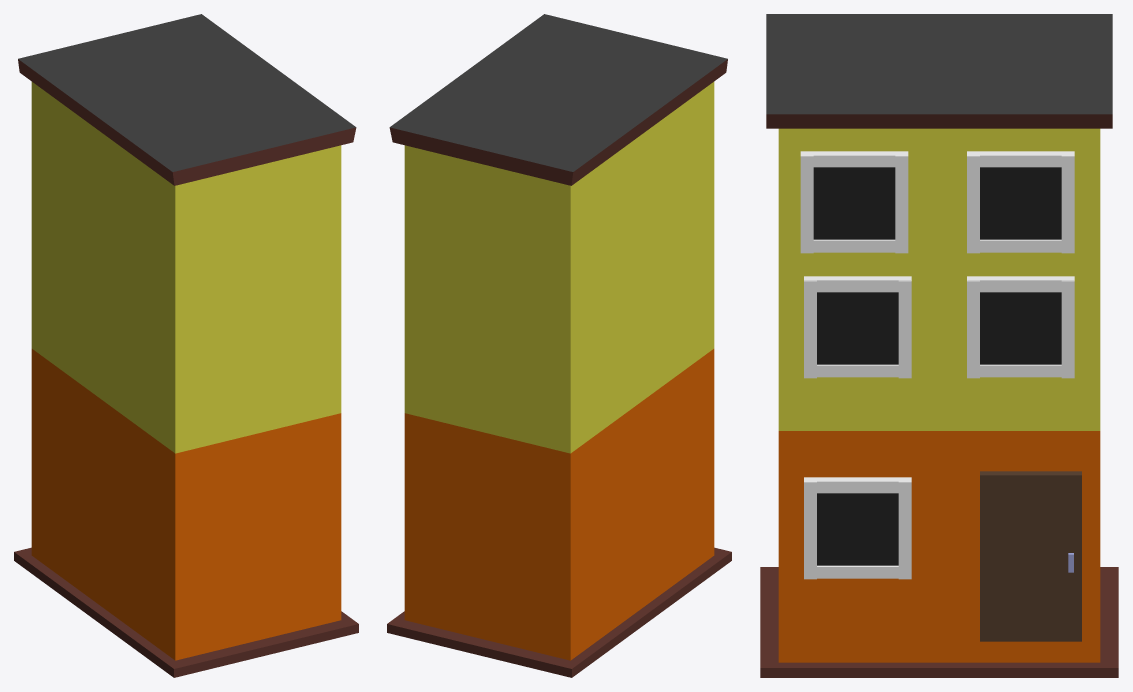
File: apartment.glb
The picture shows the model from 3 angles, left to right: view 1: azimuth 30°, elevation 25°; view 2: azimuth 150°, elevation 25°; view 3: azimuth 270°, elevation 25°; orthographic projection. The views are drawn at different scales.
Parts seen in each view (by area): view 1: Buliding; view 2: Buliding; view 3: Buliding, Cube.025, Cube.020, Cube.021, Cube.022, Cube.023, Cube.024, Cube.002, Cube.007, Cube.009, Cube.012, Cube.019.
Boxes of the visible parts, x1,y1,x2,y2 form: Buliding: (14,14,358,677); Buliding: (387,14,731,677); Buliding: (760,14,1118,677); Cube.025: (980,471,1081,641); Cube.020: (813,167,895,239); Cube.021: (980,167,1061,239); Cube.022: (980,292,1061,364); Cube.023: (817,292,898,364); Cube.024: (817,493,898,565); Cube.002: (800,151,908,253); Cube.007: (967,151,1074,253); Cube.009: (967,276,1074,378); Cube.012: (804,276,911,378); Cube.019: (804,477,911,579).
Bounding box in the file's own units: 4.49 × 11.61 × 6.69.
